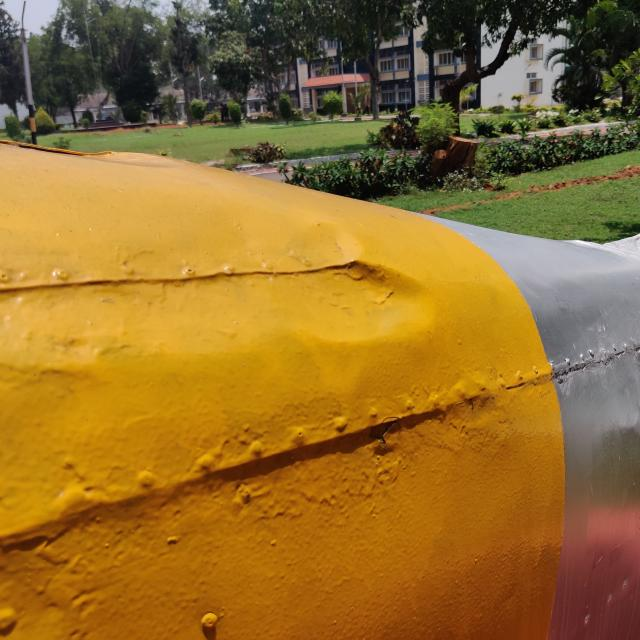dent: (282, 230, 450, 369)
